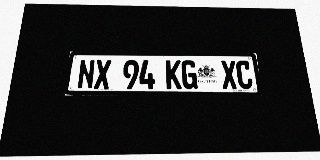4: (139, 60, 155, 89)
9: (123, 60, 139, 89)
C: (235, 61, 253, 89)
G: (181, 60, 198, 89)
K: (166, 60, 182, 89)
N: (77, 59, 95, 89)
X: (220, 60, 238, 89), (94, 60, 111, 89)
